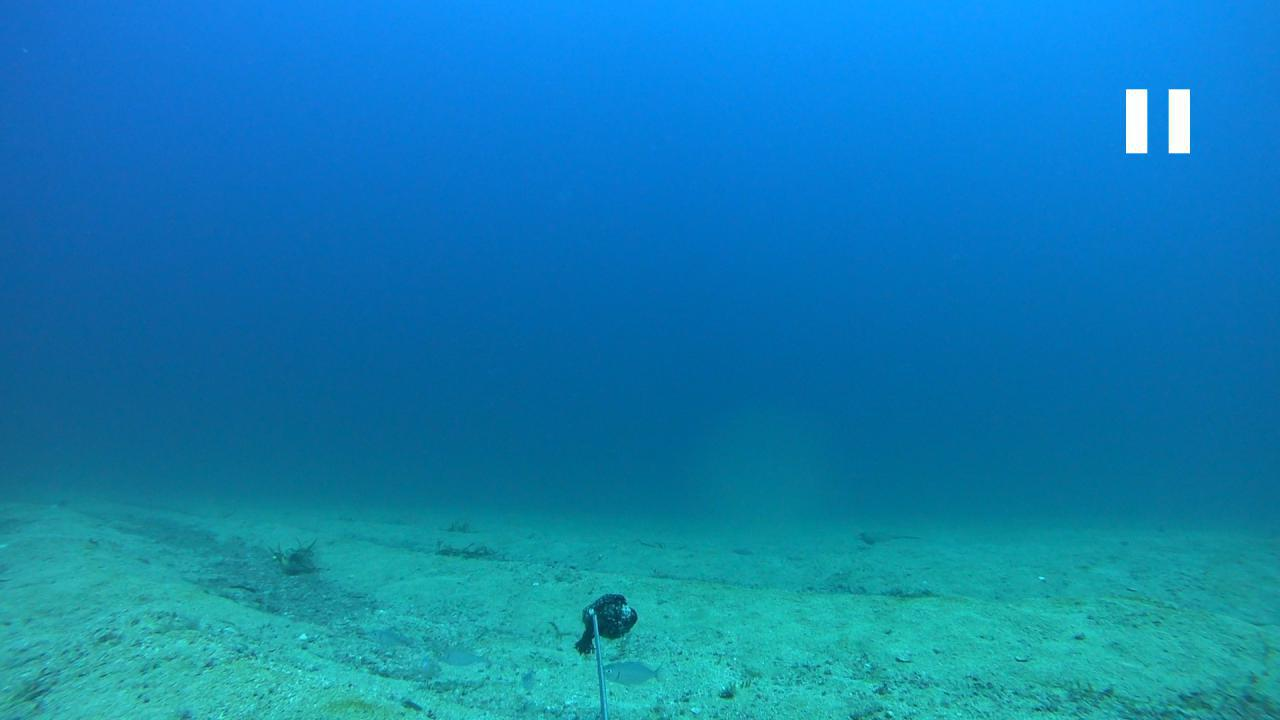dasyatis: (854, 528, 922, 544)
pagellus: (604, 659, 668, 688), (437, 646, 501, 668)
